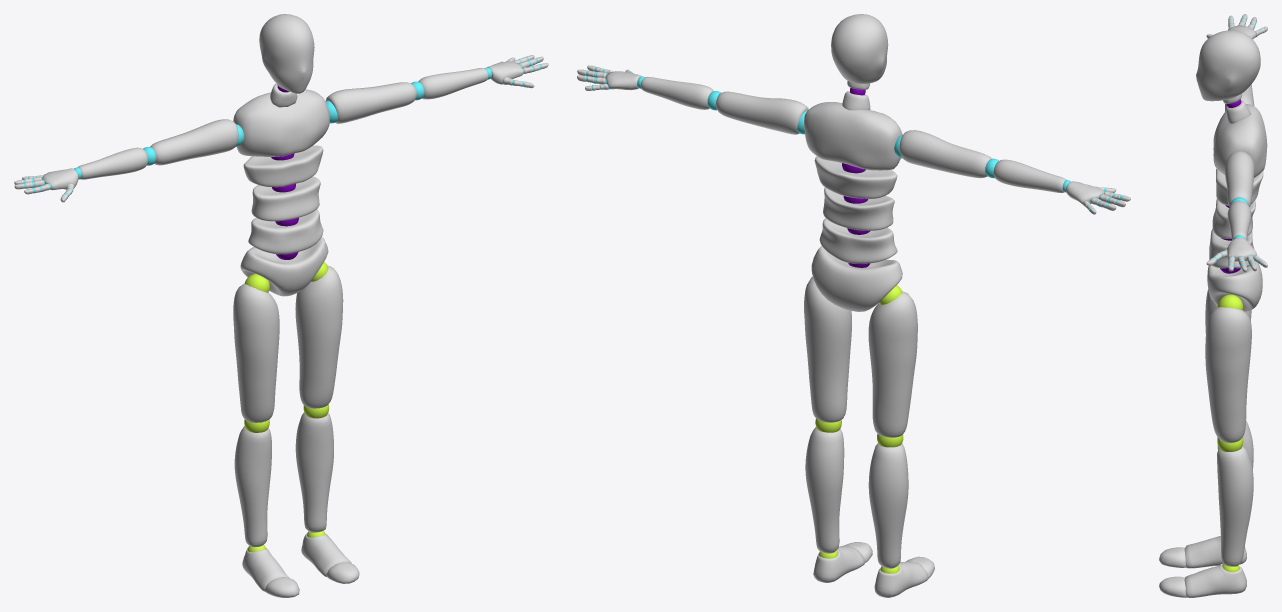
Rendered from MOVINman_V6.3_OnlyMesh.fbx.
The picture shows the model from 3 angles, left to right: view 1: azimuth 30°, elevation 25°; view 2: azimuth 150°, elevation 25°; view 3: azimuth 270°, elevation 25°; orthographic projection. The views are drawn at different scales.
Visible parts, largest first — view 1: G5_MVMAN_Body.027, G5_MVMAN_Body.026, G5_MVMAN_Body.007, G5_MVMAN_Body.029, G5_MVMAN_Body.030, G5_MVMAN_Body.014, G5_MVMAN_Body.024, G5_MVMAN_Body.009, G5_MVMAN_Body.002, G5_MVMAN_Body.022, G5_MVMAN_Body.020, G5_MVMAN_Body.018 (+4 smaller); view 2: G5_MVMAN_Body.027, G5_MVMAN_Body.026, G5_MVMAN_Body.007, G5_MVMAN_Body.030, G5_MVMAN_Body.029, G5_MVMAN_Body.024, G5_MVMAN_Body.014, G5_MVMAN_Body.009, G5_MVMAN_Body.002, G5_MVMAN_Body.022, G5_MVMAN_Body.018, G5_MVMAN_Body.020 (+4 smaller); view 3: G5_MVMAN_Body.026, G5_MVMAN_Body.014, G5_MVMAN_Body.029, G5_MVMAN_Body.007, G5_MVMAN_Body.024, G5_MVMAN_Body.036, G5_MVMAN_Body.002, G5_MVMAN_Body.035, G5_MVMAN_Body.004, G5_MVMAN_Body.020, G5_MVMAN_Body.022, G5_MVMAN_Body.018 (+10 smaller).
Part boxes in pixels (x1,y1,x2,y2): G5_MVMAN_Body.027: [233, 283, 279, 422]; G5_MVMAN_Body.026: [295, 265, 343, 408]; G5_MVMAN_Body.007: [233, 89, 329, 156]; G5_MVMAN_Body.029: [295, 412, 333, 532]; G5_MVMAN_Body.030: [234, 426, 271, 547]; G5_MVMAN_Body.014: [259, 14, 314, 93]; G5_MVMAN_Body.024: [240, 237, 328, 296]; G5_MVMAN_Body.009: [150, 119, 238, 165]; G5_MVMAN_Body.002: [326, 82, 416, 123]; G5_MVMAN_Body.022: [248, 209, 323, 254]; G5_MVMAN_Body.020: [251, 176, 320, 221]; G5_MVMAN_Body.018: [243, 145, 323, 187]; G5_MVMAN_Body.027: [868, 291, 917, 437]; G5_MVMAN_Body.026: [804, 276, 851, 422]; G5_MVMAN_Body.007: [804, 102, 902, 170]; G5_MVMAN_Body.030: [868, 443, 908, 568]; G5_MVMAN_Body.029: [805, 427, 844, 553]; G5_MVMAN_Body.024: [811, 246, 902, 311]; G5_MVMAN_Body.014: [831, 14, 888, 89]; G5_MVMAN_Body.009: [899, 130, 991, 178]; G5_MVMAN_Body.002: [716, 91, 808, 134]; G5_MVMAN_Body.022: [819, 218, 897, 263]; G5_MVMAN_Body.018: [814, 156, 897, 198]; G5_MVMAN_Body.020: [823, 187, 894, 230]; G5_MVMAN_Body.026: [1205, 307, 1251, 442]; G5_MVMAN_Body.014: [1196, 30, 1260, 103]; G5_MVMAN_Body.029: [1217, 446, 1253, 566]; G5_MVMAN_Body.007: [1213, 104, 1267, 177]; G5_MVMAN_Body.024: [1207, 261, 1262, 311]; G5_MVMAN_Body.036: [1184, 563, 1246, 597]; G5_MVMAN_Body.002: [1225, 151, 1254, 206]; G5_MVMAN_Body.035: [1184, 536, 1246, 568]; G5_MVMAN_Body.004: [1227, 200, 1251, 240]; G5_MVMAN_Body.020: [1212, 199, 1255, 238]; G5_MVMAN_Body.022: [1209, 228, 1254, 268]; G5_MVMAN_Body.018: [1216, 168, 1263, 205].
Bounding box in the file's own units: 1.79 × 1.78 × 0.3216.
